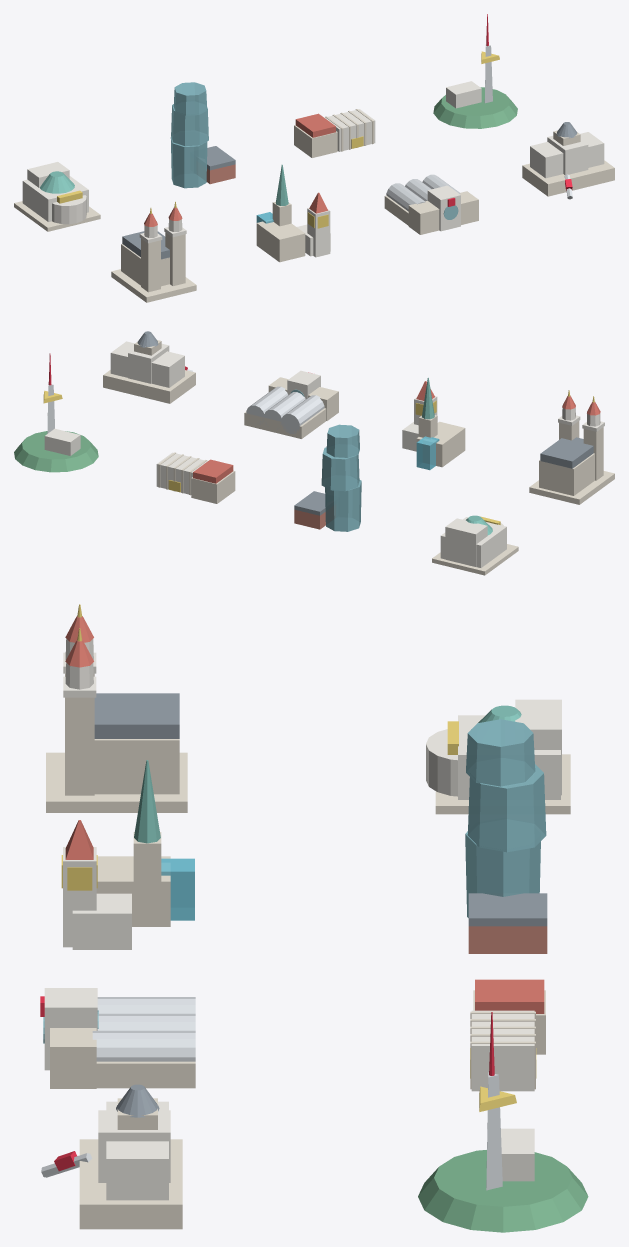
File: zurich_monuments.glb
3 renders of one model, top to bottom at view 1: azimuth 30°, elevation 25°; view 2: azimuth 150°, elevation 25°; view 3: azimuth 270°, elevation 25°, orthographic. The views are drawn at different scales.
Visible parts, largest first — view 1: Uetliberg_Summit_Knoll, Frau_Nave, ETH_Polyterrasse_Base, ETH_Semper_Corps, Prime_Lower_Octagon, HB_Wanner_Kopfbau, Prime_Mid_Cantilever, Opera_Main_Auditorium, Chipperfield_Main_Cube, Gross_Terrace_Plinth, Prime_Clouds_Crown, Gross_Tower_Shaft_-0.88 (+17 smaller); view 2: Uetliberg_Summit_Knoll, ETH_Semper_Corps, Gross_Nave_Hall, ETH_Polyterrasse_Base, Opera_Stage_Flytower, Prime_Lower_Octagon, Prime_Mid_Cantilever, Gross_Nave_Roof, Frau_Nave, Opera_Main_Auditorium, HB_Shed_Side_Walls, Chipperfield_Main_Cube (+18 smaller); view 3: Uetliberg_Summit_Knoll, Prime_Mid_Cantilever, ETH_Polyterrasse_Base, Gross_Nave_Hall, Chipperfield_Main_Cube, Prime_Clouds_Crown, ETH_Semper_Corps, Gross_Nave_Roof, Prime_Lower_Octagon, Gross_Terrace_Plinth, HB_Train_Shed_Vault_1.25, StPeter_Nave (+22 smaller).
Part boxes in pixels (<box>): Uetliberg_Summit_Knoll: <box>433,87,517,128</box>; Frau_Nave: <box>256,221,305,262</box>; ETH_Polyterrasse_Base: <box>522,160,614,196</box>; ETH_Semper_Corps: <box>530,132,604,178</box>; Prime_Lower_Octagon: <box>170,137,207,188</box>; HB_Wanner_Kopfbau: <box>408,191,478,234</box>; Prime_Mid_Cantilever: <box>171,104,208,146</box>; Opera_Main_Auditorium: <box>22,176,88,221</box>; Chipperfield_Main_Cube: <box>324,109,375,151</box>; Gross_Terrace_Plinth: <box>111,269,196,302</box>; Prime_Clouds_Crown: <box>173,82,207,115</box>; Gross_Tower_Shaft_-0.88: <box>141,238,160,292</box>; Uetliberg_Summit_Knoll: <box>14,431,98,472</box>; ETH_Semper_Corps: <box>110,341,184,387</box>; Gross_Nave_Hall: <box>539,453,594,495</box>; ETH_Polyterrasse_Base: <box>103,370,195,403</box>; Opera_Stage_Flytower: <box>445,518,487,566</box>; Prime_Lower_Octagon: <box>325,480,361,531</box>; Prime_Mid_Cantilever: <box>321,447,359,491</box>; Gross_Nave_Roof: <box>540,437,593,468</box>; Frau_Nave: <box>416,421,465,467</box>; Opera_Main_Auditorium: <box>440,517,506,567</box>; HB_Shed_Side_Walls: <box>244,408,326,438</box>; Chipperfield_Main_Cube: <box>156,452,207,494</box>; Uetliberg_Summit_Knoll: <box>418,1150,588,1232</box>; Prime_Mid_Cantilever: <box>467,764,546,852</box>; ETH_Polyterrasse_Base: <box>79,1139,182,1229</box>; Gross_Nave_Hall: <box>94,739,179,794</box>; Chipperfield_Main_Cube: <box>471,1010,534,1091</box>; Prime_Clouds_Crown: <box>466,719,535,786</box>; ETH_Semper_Corps: <box>106,1101,168,1200</box>; Gross_Nave_Roof: <box>94,693,179,738</box>; Prime_Lower_Octagon: <box>465,831,540,917</box>; Gross_Terrace_Plinth: <box>46,752,187,812</box>; HB_Train_Shed_Vault_1.25: <box>92,1031,195,1061</box>; StPeter_Nave: <box>72,893,131,949</box>.
Size of the model in its own units: 34.55 by 6.64 by 17.02.
